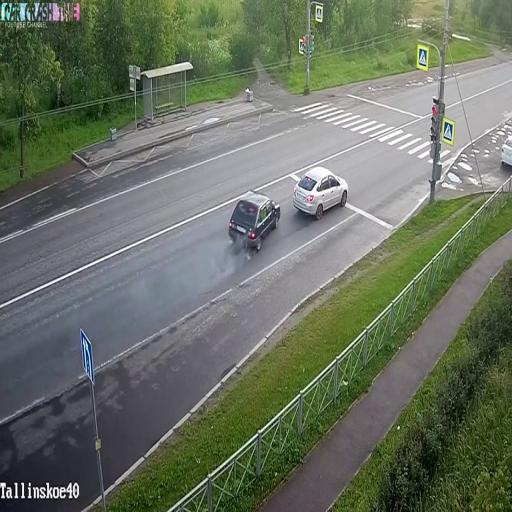小汽车: (229, 188, 282, 252), (294, 162, 349, 221), (500, 134, 512, 168)
